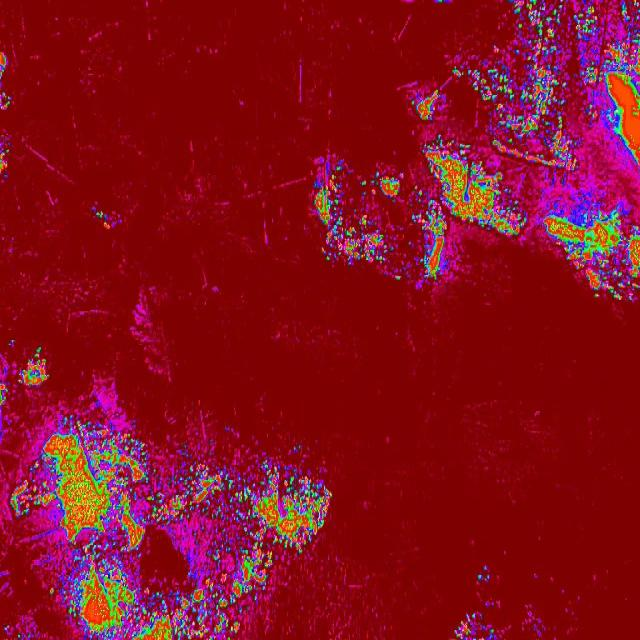fire: (417, 0, 640, 301), (0, 411, 267, 640), (312, 156, 418, 284), (266, 458, 334, 568), (18, 338, 56, 394), (452, 610, 501, 640), (0, 51, 10, 173)
